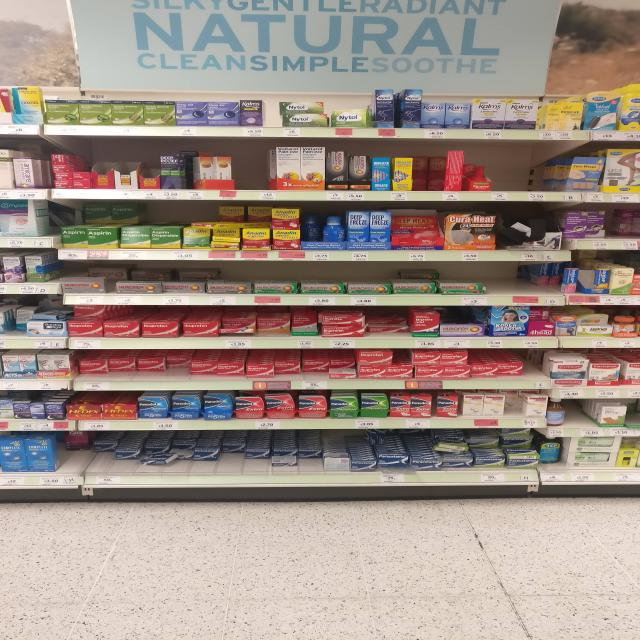void: (529, 145, 568, 200), (240, 140, 274, 201), (495, 147, 526, 201), (511, 262, 537, 307), (486, 262, 512, 306), (570, 398, 598, 435), (527, 349, 551, 388)
